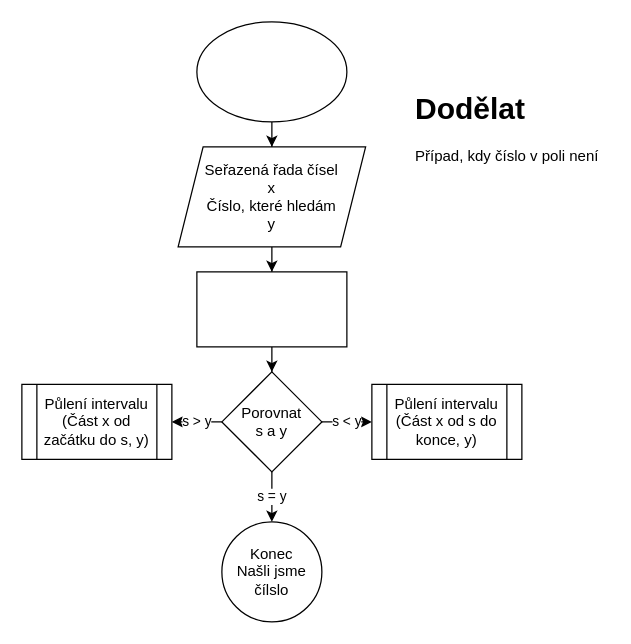
The diagram is 631 pixels wide and 644 high, and some of its shapes have lost their labels. The shapes that lost their labels are listed below. From the top down, each one's box as (x1, y1, x2, y2) in pixels, then its label:
(196, 21, 347, 122): Půlení intervalu
(196, 271, 347, 347): Najít střed řady s
